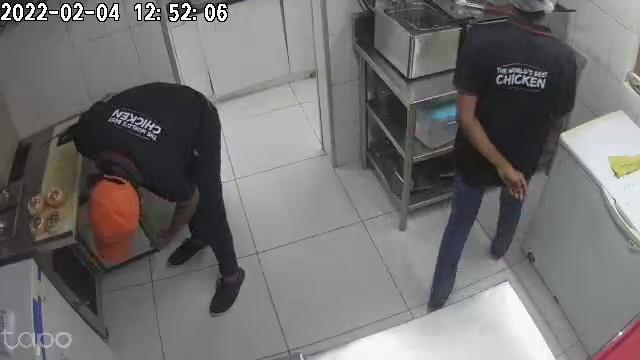no_gloves: (494, 157, 527, 202)
